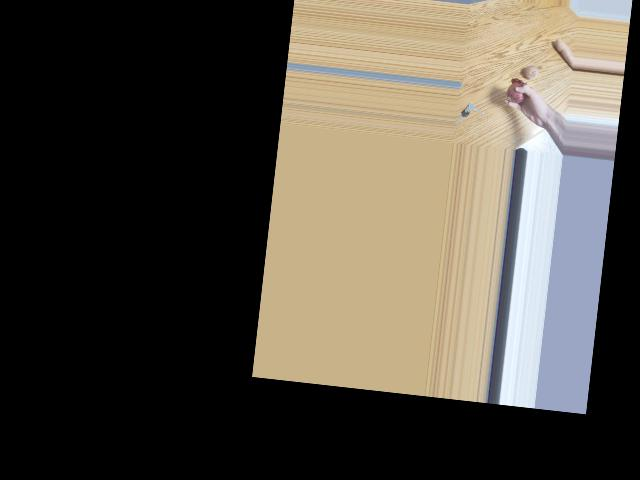onion: (522, 63, 543, 86)
